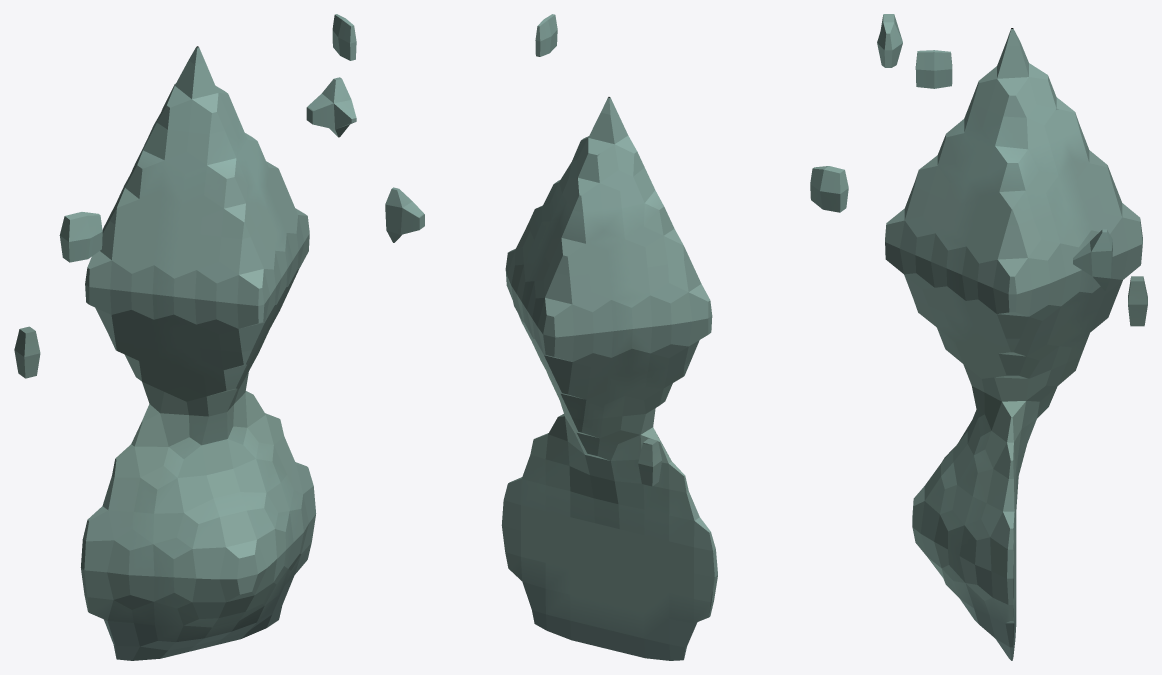
File: lightningElemental.glb
The picture shows the model from 3 angles, left to right: view 1: azimuth 30°, elevation 25°; view 2: azimuth 150°, elevation 25°; view 3: azimuth 270°, elevation 25°; orthographic projection. The views are drawn at different scales.
Parts seen in each view (by area): view 1: geometry_0; view 2: geometry_0; view 3: geometry_0.
Boxes of the visible parts, box(x1,y1,x2,y2) form: geometry_0: box(14, 14, 356, 660); geometry_0: box(385, 14, 848, 660); geometry_0: box(877, 14, 1147, 660).
Size of the model in its own units: 0.6023 by 0.9325 by 0.3635.
1 material, 1 textured.
